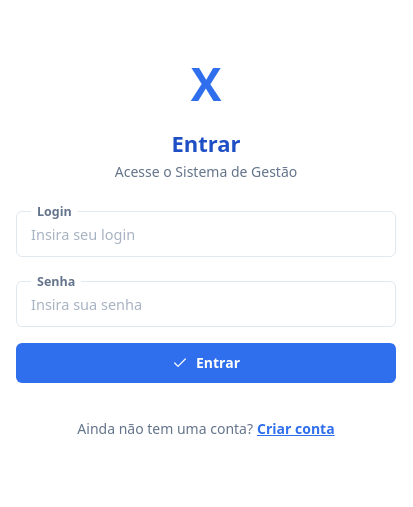
Test case: LoginPage › deve exibir erro se a senha for muito curta no registro
Click the button "Criar conta" at (296, 428), box [257,419,335,438]
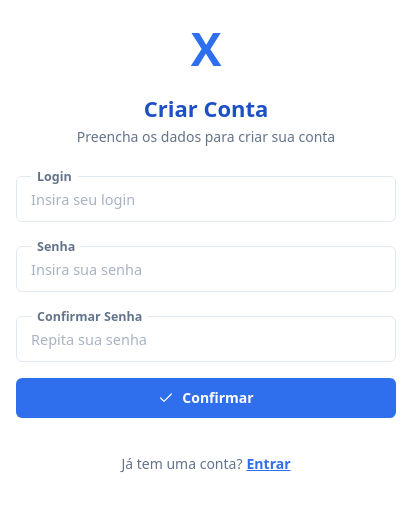
Type "admin" into the field with placeholder "Insira seu login" at (206, 198), box [31,185,381,211]
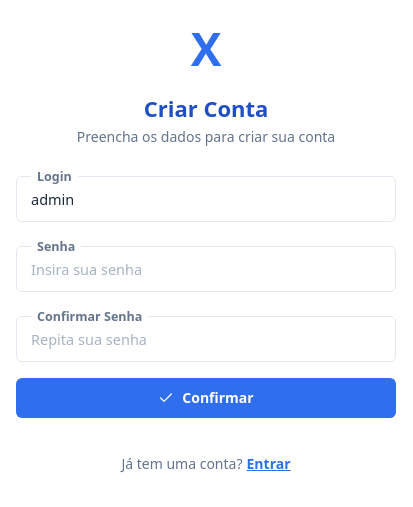
Type "123" into the password field with placeholder "Insira sua senha" at (206, 268), box [31,255,381,281]
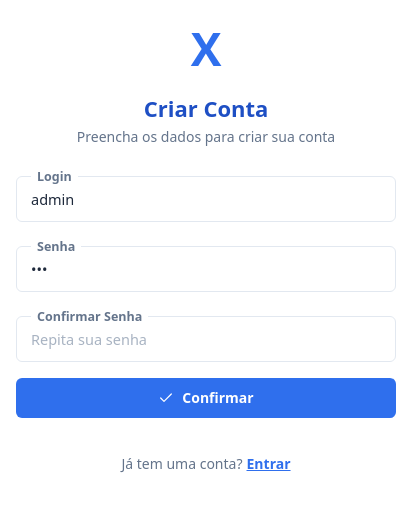
Type "123" into the password field with placeholder "Repita sua senha" at (206, 338), box [31,325,381,351]
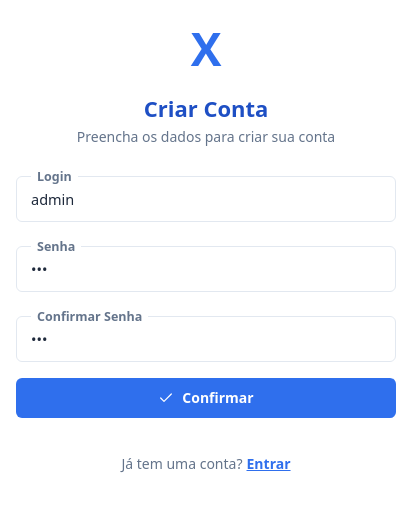
Click the button "Confirmar" at (206, 398), box [16,378,396,418]
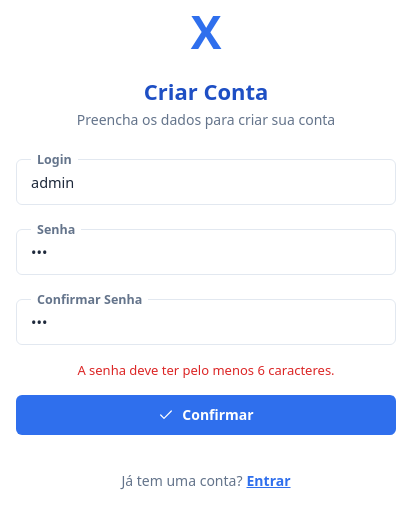
Result: the text "A senha deve ter pelo menos 6 caracteres." is shown at [77,361,335,379]
